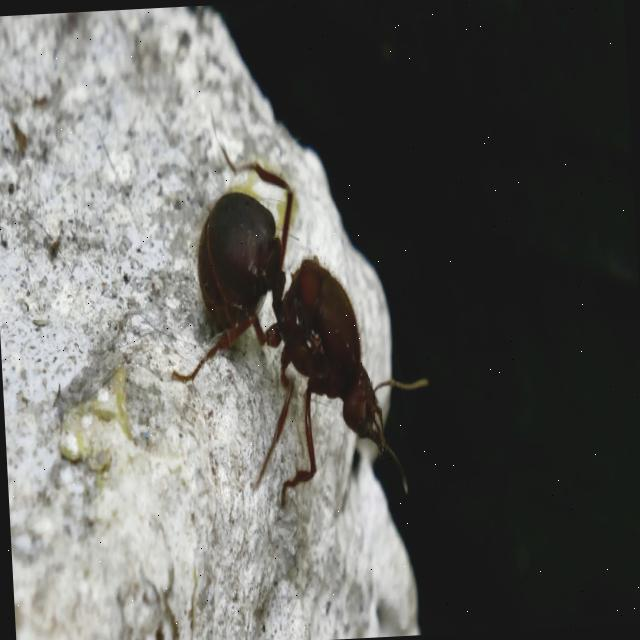Alive-Female-Dealate: (158, 98, 435, 515)
